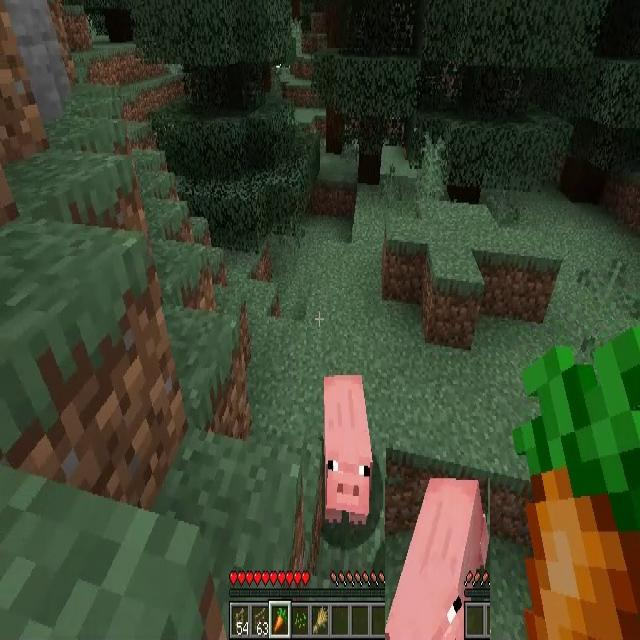pig: (385, 478, 490, 640), (324, 372, 372, 528)
